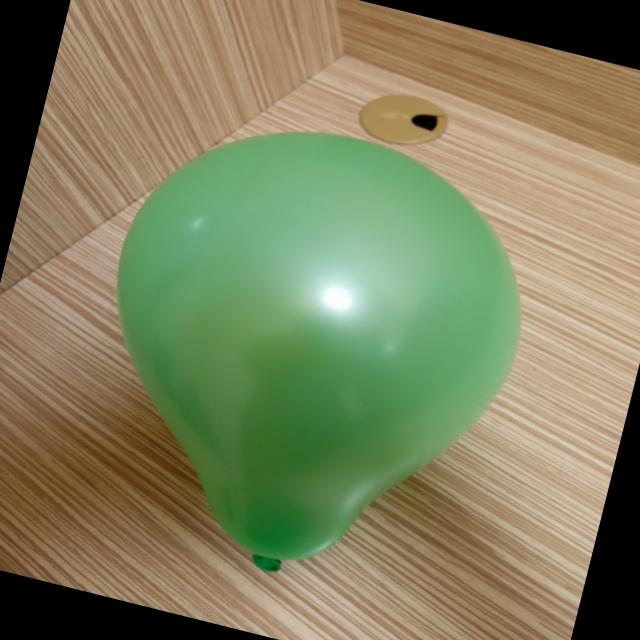balloon: (117, 132, 520, 571)
